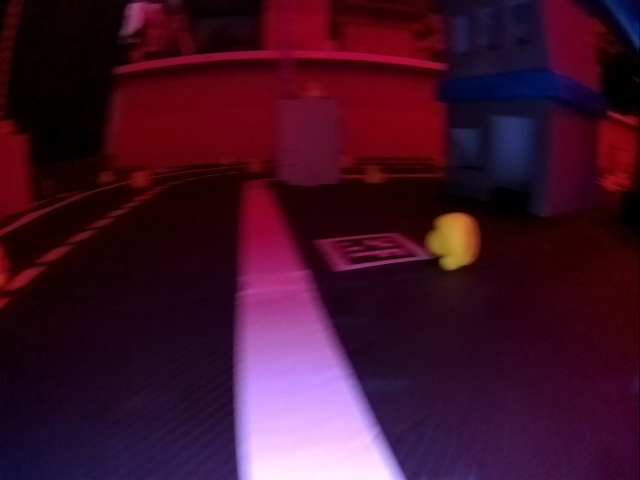Duckie: (427, 213, 480, 269)
QR code: (318, 233, 425, 268)
